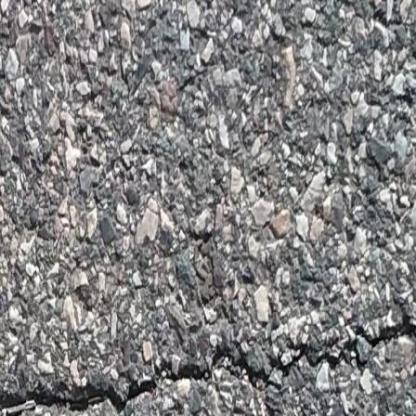Cracks: (0, 296, 416, 416)
